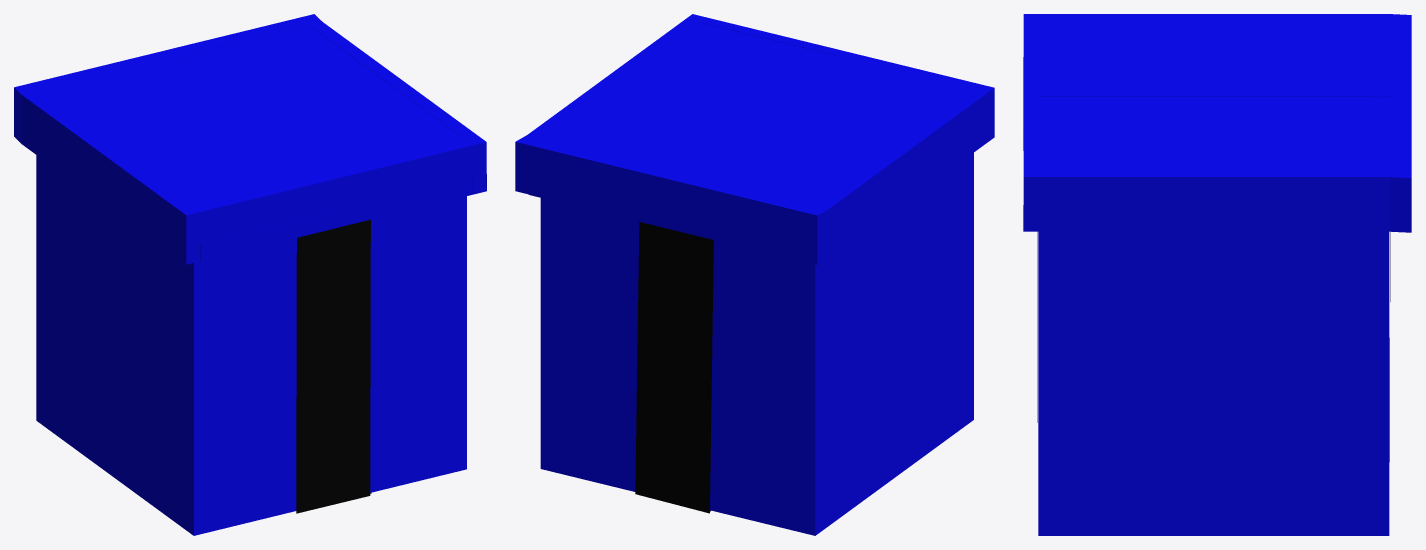
Rendered from bluepackage.fbx.
3 views of the same model, side by side, from view 1: azimuth 30°, elevation 25°; view 2: azimuth 150°, elevation 25°; view 3: azimuth 270°, elevation 25° (orthographic). The views are drawn at different scales.
Visible parts, largest first — view 1: Plane.003; view 2: Plane.003; view 3: Plane.003.
Boxes of the visible parts, x1,y1,x2,y2 form: Plane.003: [14, 14, 486, 535]; Plane.003: [515, 14, 994, 535]; Plane.003: [1023, 14, 1411, 535].
Bounding box in the file's own units: 221 × 232 × 221.
